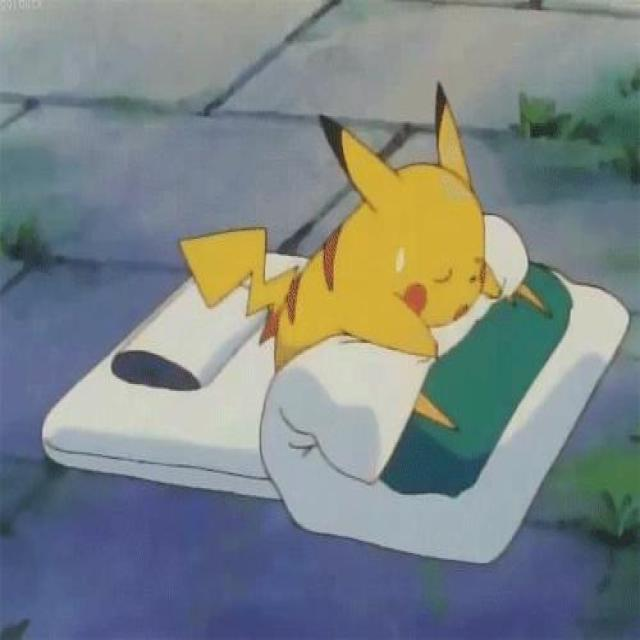pikachu: (177, 80, 511, 376)
